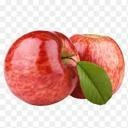apple: (65, 34, 125, 101)
